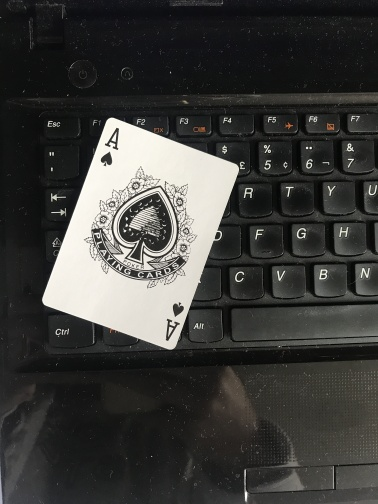ace: (41, 117, 241, 352)
